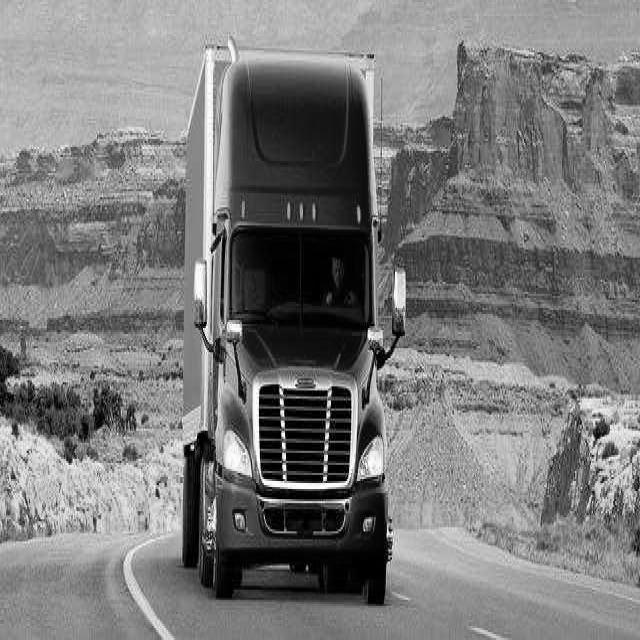Truck: (182, 50, 392, 604)
